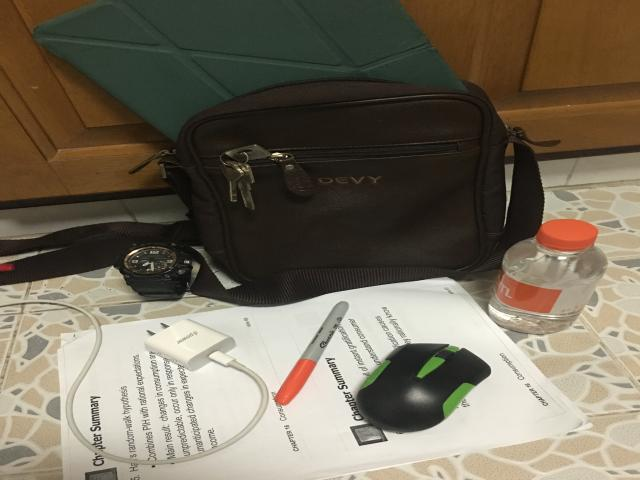Keys: (220, 144, 272, 209)
Mouse: (357, 343, 492, 433)
Pen: (275, 302, 348, 405)
Watch: (115, 243, 193, 299)
bottle: (488, 218, 608, 334)
paper: (59, 278, 590, 480)
wire: (0, 300, 268, 465)
